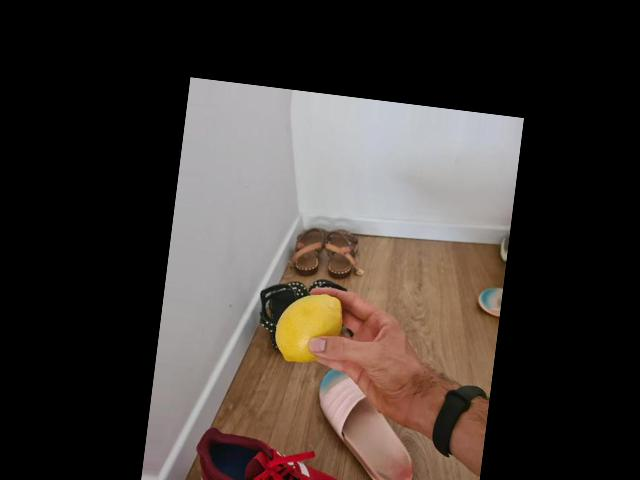lemon: (274, 289, 346, 369)
